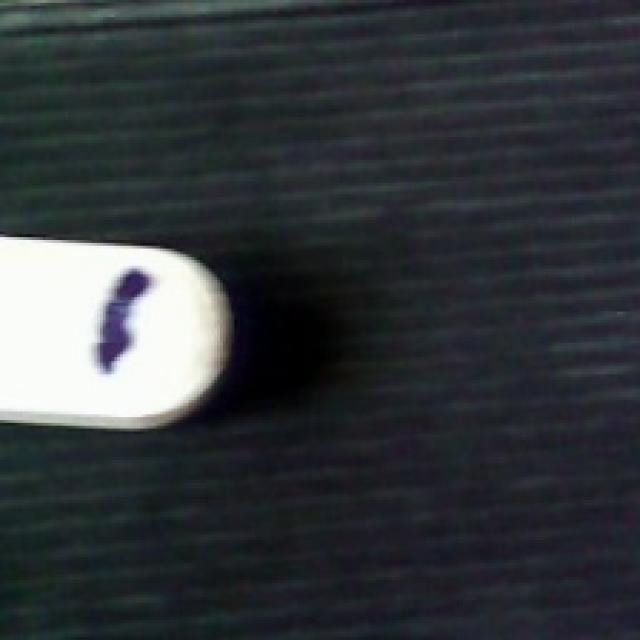defected: (3, 232, 243, 432)
